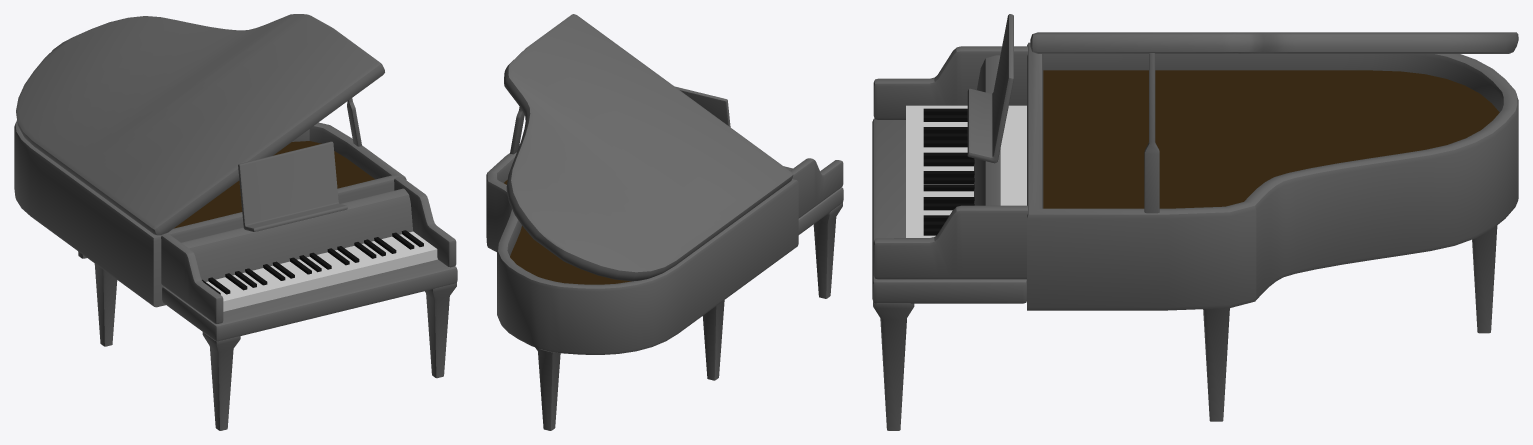
File: SM_piano_02.fbx
3 renders of one model, left to right at view 1: azimuth 30°, elevation 25°; view 2: azimuth 150°, elevation 25°; view 3: azimuth 270°, elevation 25°, orthographic. The views are drawn at different scales.
Visible parts, largest first — view 1: Box424; view 2: Box424; view 3: Box424.
Part boxes in pixels (box(x1,y1,x2,y2)): Box424: box(14, 14, 457, 430); Box424: box(486, 14, 843, 430); Box424: box(872, 14, 1518, 430).
Bounding box in the file's own units: 71.73 × 75.19 × 113.
